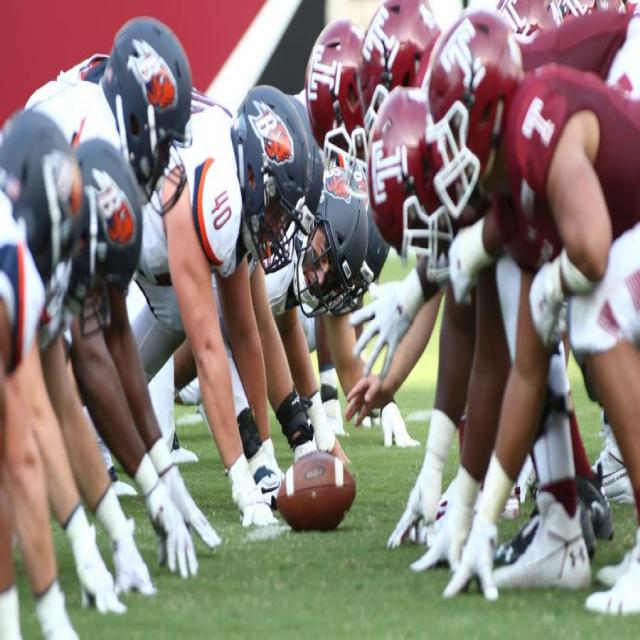illegal_helmet: (365, 80, 482, 288), (421, 8, 527, 223), (100, 13, 194, 220), (228, 80, 314, 280), (290, 166, 372, 326), (302, 14, 384, 155)
